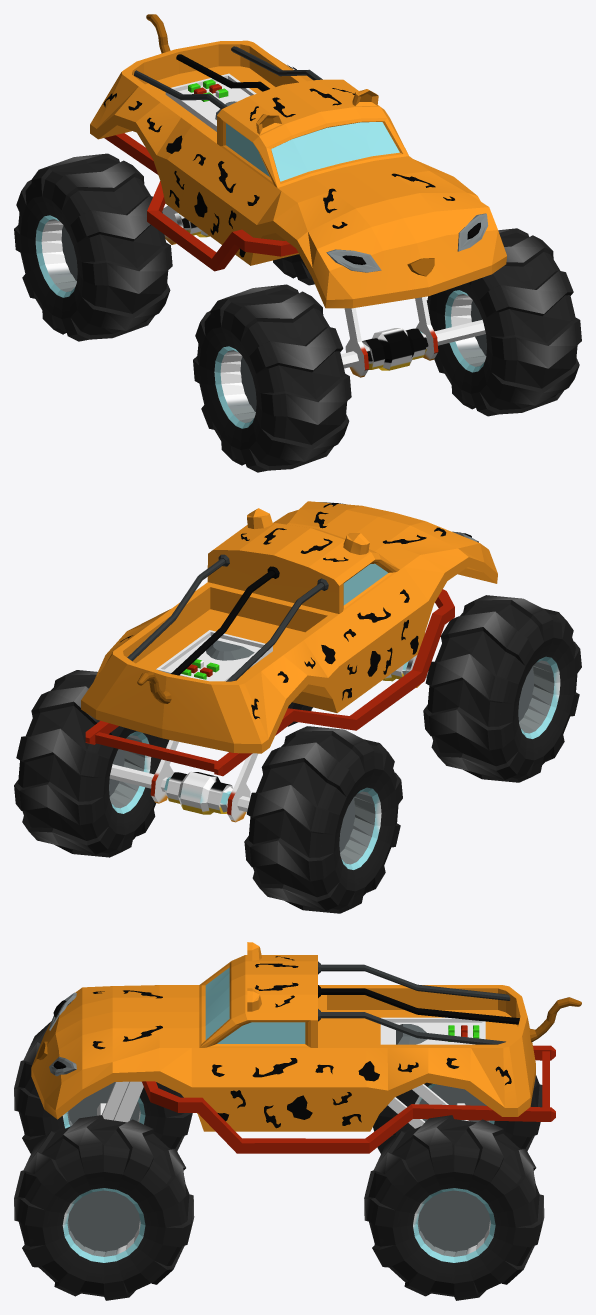
Rendered from truck 11.fbx.
3 renders of one model, top to bottom at view 1: azimuth 30°, elevation 25°; view 2: azimuth 150°, elevation 25°; view 3: azimuth 270°, elevation 25°, orthographic. The views are drawn at different scales.
Parts seen in each view (by area): view 1: Monster_Truck_Body_1_Cheetah_0, Wheel_FR_1_Cheetah_0, Wheel_FR_1_Cheetah_0.002, Wheel_FR_1_Cheetah_0.001, Wheel_FR_1_Cheetah_0.003; view 2: Monster_Truck_Body_1_Cheetah_0, Wheel_FR_1_Cheetah_0.002, Wheel_FR_1_Cheetah_0, Wheel_FR_1_Cheetah_0.003; view 3: Monster_Truck_Body_1_Cheetah_0, Wheel_FR_1_Cheetah_0.003, Wheel_FR_1_Cheetah_0.001, Wheel_FR_1_Cheetah_0, Wheel_FR_1_Cheetah_0.002.
Boxes of the visible parts, left/top/right/bottom form: Monster_Truck_Body_1_Cheetah_0: left=90, top=14, right=506, bottom=377; Wheel_FR_1_Cheetah_0: left=193, top=284, right=351, bottom=472; Wheel_FR_1_Cheetah_0.002: left=14, top=153, right=172, bottom=341; Wheel_FR_1_Cheetah_0.001: left=426, top=228, right=581, bottom=416; Wheel_FR_1_Cheetah_0.003: left=273, top=254, right=314, bottom=285; Monster_Truck_Body_1_Cheetah_0: left=81, top=501, right=497, bottom=822; Wheel_FR_1_Cheetah_0.002: left=244, top=726, right=402, bottom=913; Wheel_FR_1_Cheetah_0: left=423, top=595, right=581, bottom=782; Wheel_FR_1_Cheetah_0.003: left=14, top=670, right=169, bottom=857; Monster_Truck_Body_1_Cheetah_0: left=31, top=942, right=581, bottom=1153; Wheel_FR_1_Cheetah_0.003: left=364, top=1115, right=544, bottom=1300; Wheel_FR_1_Cheetah_0.001: left=14, top=1115, right=194, bottom=1300; Wheel_FR_1_Cheetah_0: left=14, top=1021, right=192, bottom=1153; Wheel_FR_1_Cheetah_0.002: left=373, top=1075, right=542, bottom=1153.
Size of the model in its own units: 32.95 by 27.71 by 52.87.
1 material, 1 textured.
